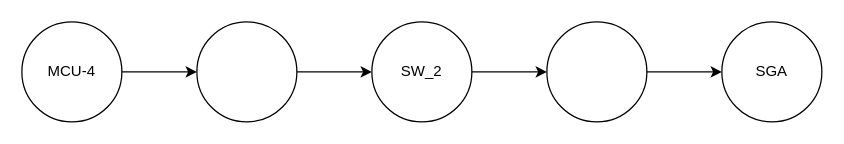
The diagram is 844 pixels wide and 144 high, and some of its shapes have lost their labels. Here are the shapes that lost their labels. From the top down, the box of each, then its label:
(196, 21, 297, 122): SW_4
(546, 21, 647, 122): SW_B
